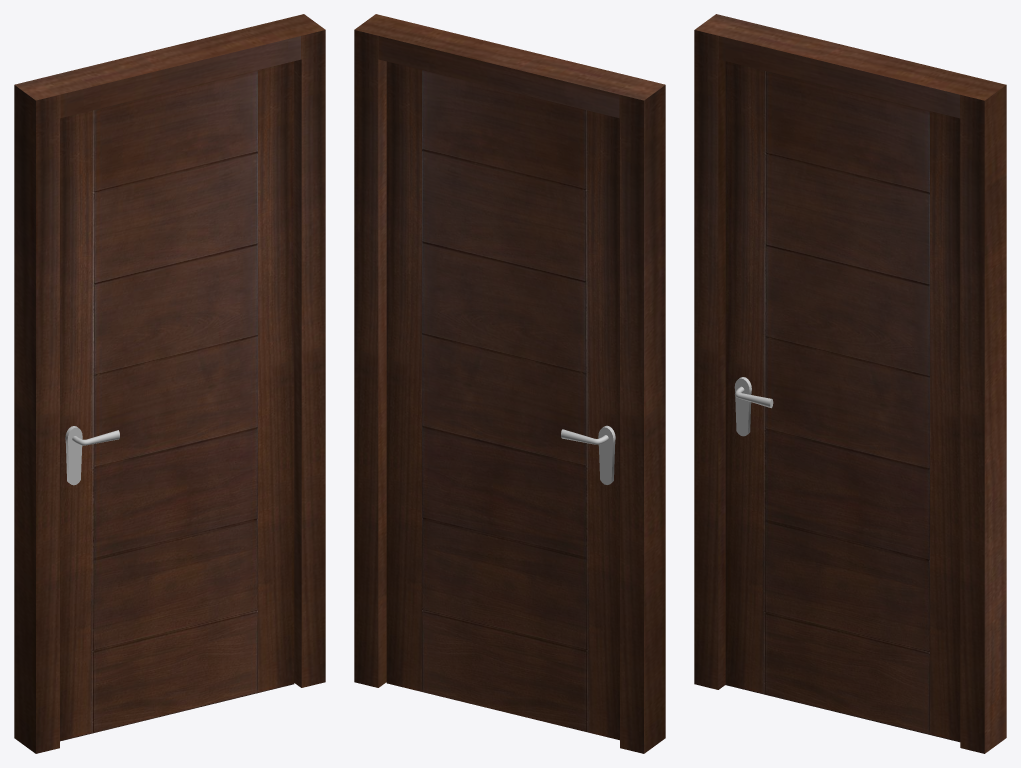
The model's file is Door 1.FBX.
3 views of the same model, side by side, from view 1: azimuth 30°, elevation 25°; view 2: azimuth 150°, elevation 25°; view 3: azimuth 330°, elevation 25° (orthographic).
Visible parts, largest first — view 1: Door, door frame; view 2: Door, door frame; view 3: Door, door frame.
Boxes of the visible parts, box(x1,y1,x2,y2) form: Door: box(60, 61, 294, 741); door frame: box(14, 14, 325, 753); Door: box(386, 61, 619, 740); door frame: box(354, 14, 665, 753); Door: box(725, 61, 960, 742); door frame: box(694, 14, 1006, 753).
Size of the model in its own units: 966 by 2080 by 168.
